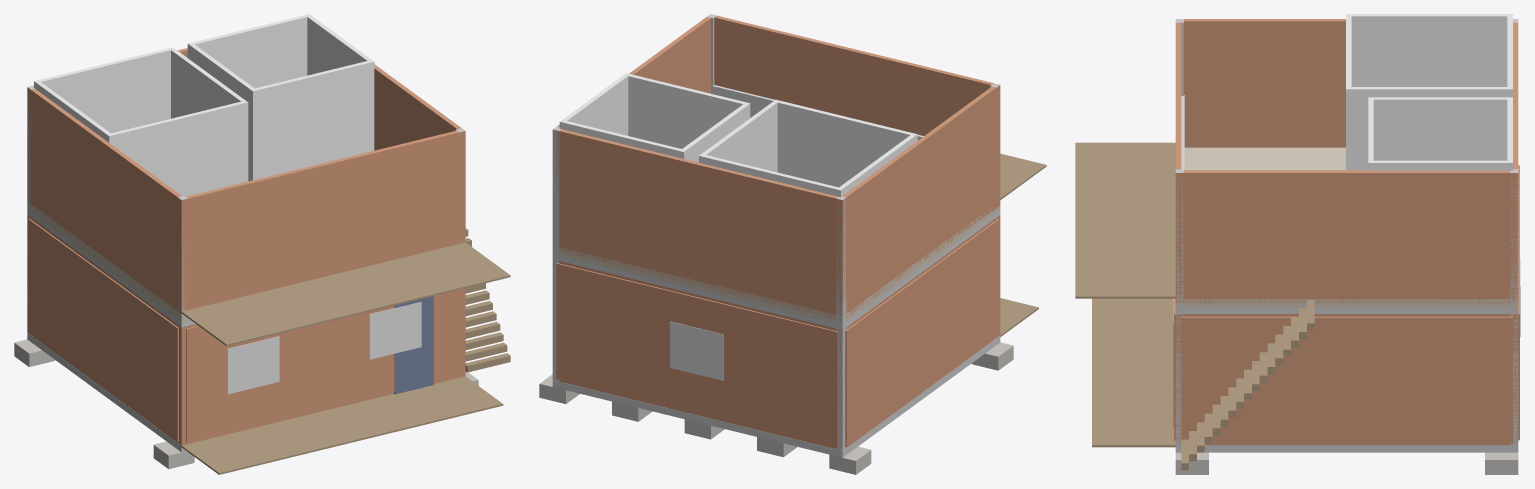
Rendered from Duplex-20-Base-Terracotta-LOD3.glb.
3 renders of one model, left to right at view 1: azimuth 30°, elevation 25°; view 2: azimuth 150°, elevation 25°; view 3: azimuth 270°, elevation 25°, orthographic. The views are drawn at different scales.
Visible parts, largest first — view 1: ExteriorShellUpper, ExteriorPanelsStandard, StudyUpper, BedroomUpper, BalconyUpper, BalconyGround, WindowsStandard, StaircaseExternal, ExteriorShell, EntryDoor, FoundationBlocks, FloorUpper (+3 smaller); view 2: ExteriorShellUpper, ExteriorPanelsStandard, BedroomUpper, StudyUpper, FloorUpper, VerticalStructure, FoundationBlocks, BaseFrame, ExteriorShell, WindowsStandard, TopFrame, BalconyUpper (+2 smaller); view 3: ExteriorShellUpper, ExteriorPanelsStandard, BalconyUpper, BedroomUpper, BalconyGround, StudyUpper, FloorUpper, StaircaseExternal, ExteriorShell, VerticalStructure, BaseFrame, TopFrame (+1 smaller).
Boxes of the visible parts, box(x1,y1,x2,y2) form: ExteriorShellUpper: box(27, 48, 465, 315); ExteriorPanelsStandard: box(28, 218, 461, 442); StudyUpper: box(187, 14, 374, 181); BedroomUpper: box(34, 47, 248, 196); BalconyUpper: box(181, 242, 510, 346); BalconyGround: box(181, 376, 503, 474); WindowsStandard: box(227, 301, 421, 394); StaircaseExternal: box(465, 228, 510, 372); ExteriorShell: box(27, 214, 465, 445); EntryDoor: box(394, 296, 433, 394); FoundationBlocks: box(14, 339, 478, 469); FloorUpper: box(27, 201, 190, 322); ExteriorShellUpper: box(553, 15, 1000, 320); ExteriorPanelsStandard: box(556, 219, 999, 447); BedroomUpper: box(699, 99, 917, 197); StudyUpper: box(559, 73, 750, 162); FloorUpper: box(559, 206, 1000, 324); VerticalStructure: box(552, 14, 999, 450); FoundationBlocks: box(539, 342, 1013, 474); BaseFrame: box(552, 336, 1000, 457); ExteriorShell: box(559, 215, 1000, 448); WindowsStandard: box(670, 321, 723, 380); TopFrame: box(559, 210, 1000, 329); BalconyUpper: box(1000, 153, 1046, 199); ExteriorShellUpper: box(1175, 19, 1518, 303); ExteriorPanelsStandard: box(1174, 165, 1519, 443); BalconyUpper: box(1075, 142, 1175, 298); BedroomUpper: box(1346, 14, 1512, 170); BalconyGround: box(1092, 298, 1175, 447); StudyUpper: box(1368, 97, 1512, 170); FloorUpper: box(1176, 147, 1518, 308); StaircaseExternal: box(1181, 299, 1314, 470); ExteriorShell: box(1175, 314, 1518, 445); VerticalStructure: box(1175, 19, 1518, 445); BaseFrame: box(1175, 445, 1518, 452); TopFrame: box(1175, 309, 1518, 313).
Size of the model in its own units: 7.94 by 6 by 8.
